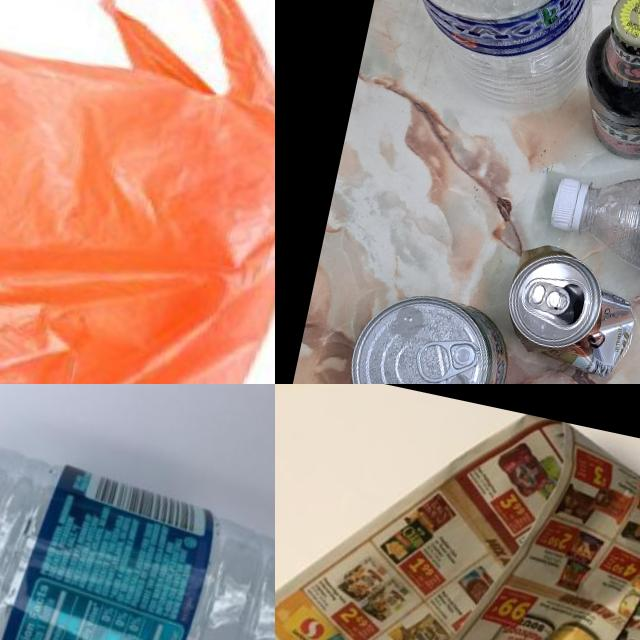aba de lata: (411, 331, 481, 384), (525, 279, 573, 315)
garrafa de vidro: (567, 0, 640, 170)
garrafa plástica: (0, 412, 275, 640), (358, 0, 631, 120), (569, 157, 640, 308)
lata: (497, 245, 640, 380), (338, 282, 518, 384)
papel: (275, 384, 640, 640)
sacola plástica: (0, 0, 275, 384)
tampa plástica: (548, 176, 582, 232)
